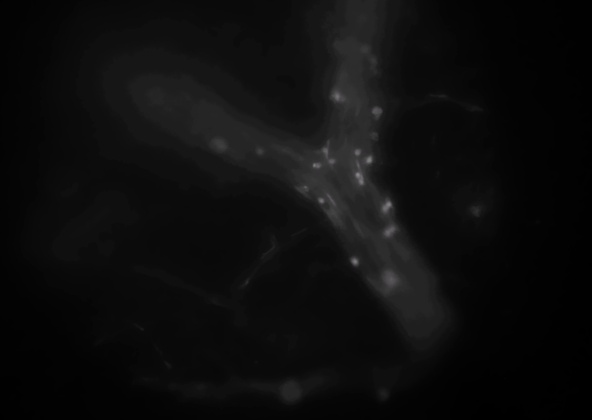cell: (369, 105, 383, 119), (349, 145, 363, 159), (362, 154, 376, 168), (317, 144, 331, 158), (309, 158, 323, 172), (325, 155, 339, 169), (327, 90, 341, 104), (350, 168, 364, 182), (337, 91, 351, 105), (354, 175, 368, 189), (347, 255, 361, 269), (381, 272, 395, 286), (379, 226, 393, 240), (383, 197, 397, 211), (387, 223, 401, 237), (378, 201, 392, 215), (312, 193, 326, 207), (298, 183, 312, 197), (252, 145, 266, 159), (212, 139, 226, 153), (359, 42, 373, 56), (367, 52, 381, 66), (332, 42, 346, 56), (368, 128, 382, 142), (330, 91, 344, 105)
